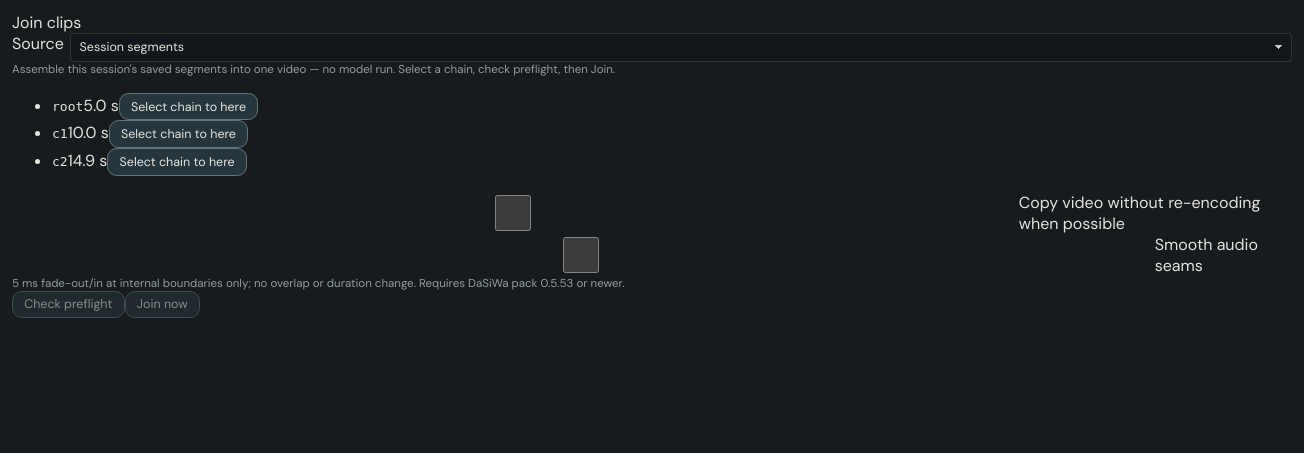
it: copy option rides the preflight body and the intent; failing preflight keeps Join disabled
Click the button "Select chain to here" in the row of "c1" at (178,134), box [109,120,248,148]
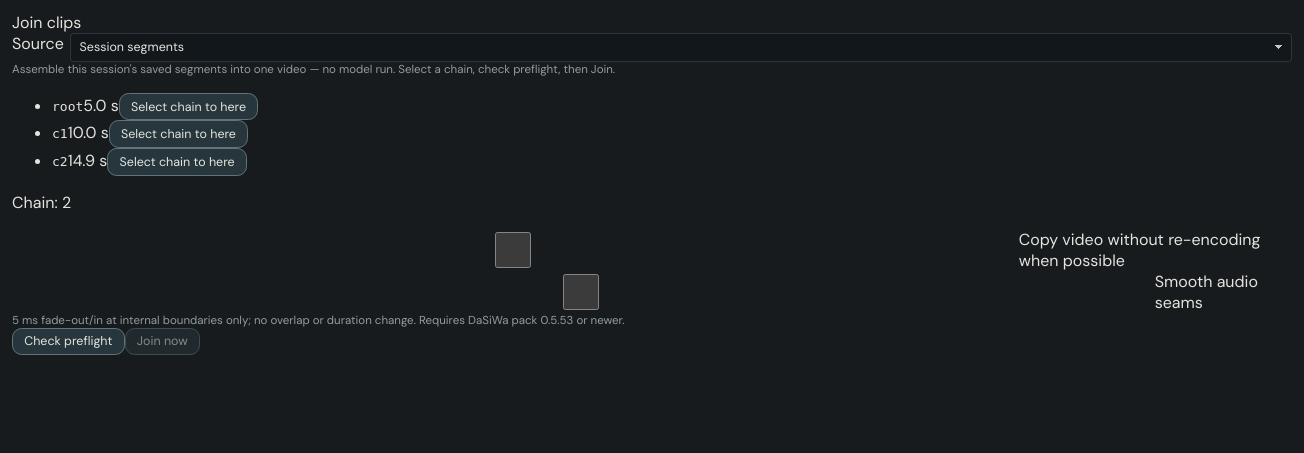
Click the checkbox labelled "Copy video without re-encoding when possible" at (513,250), box [16,232,1010,268]
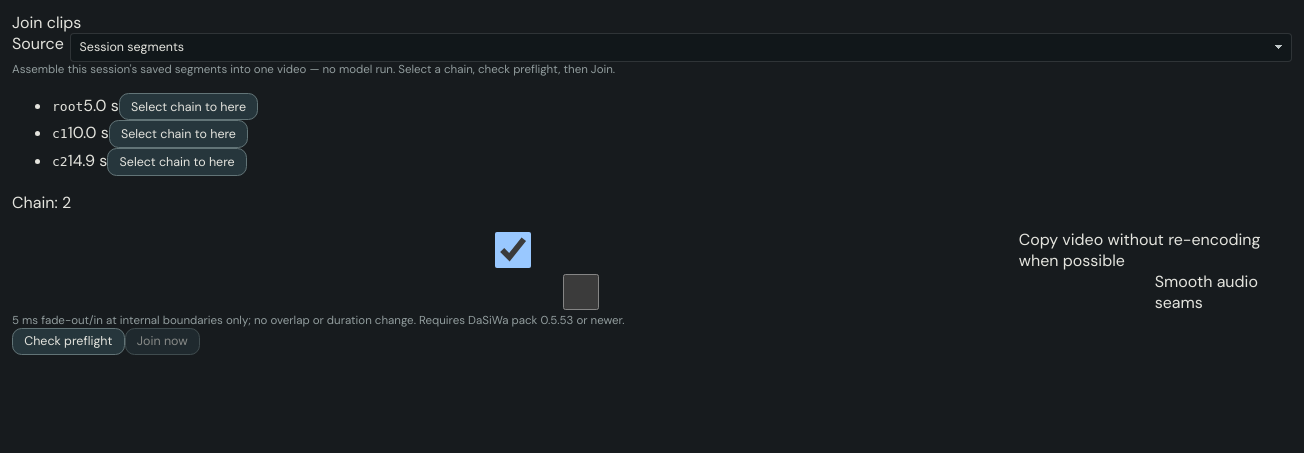
Click the button "Check preflight" at (68,341), box [12,328,125,355]
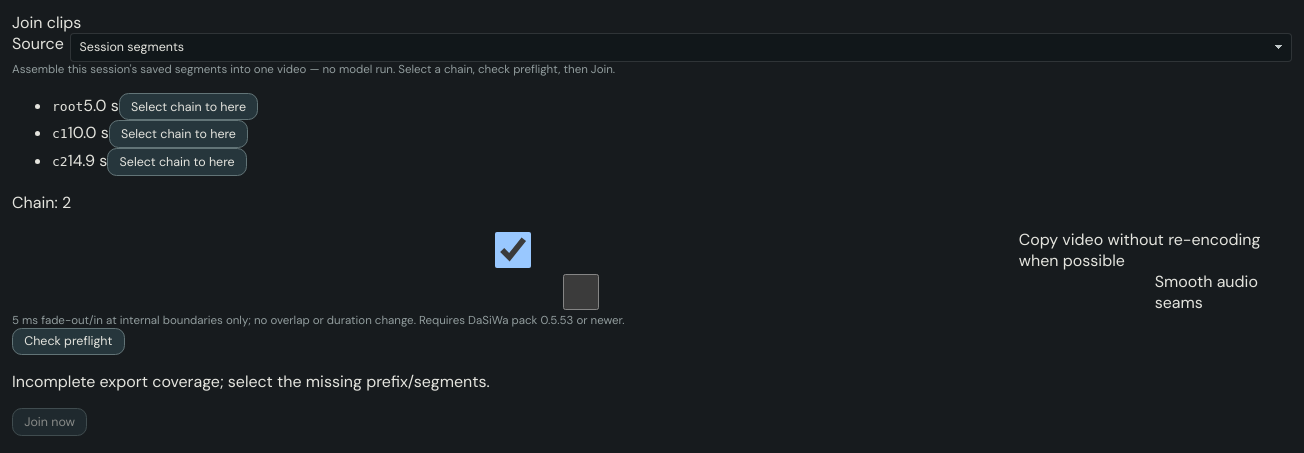
Expected: the button "Join now" is disabled, [12,408,87,436]
Result: the message shows "Incomplete export coverage" at [12,371,490,392]
